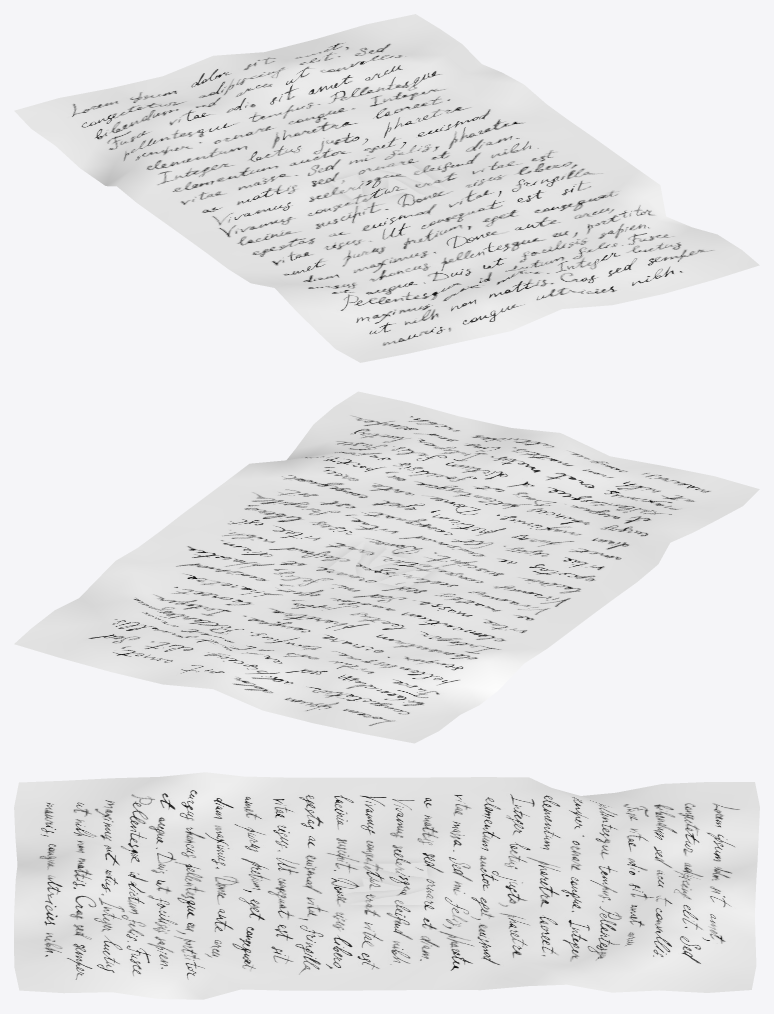
Rendered from PAPER.fbx.
The picture shows the model from 3 angles, top to bottom: view 1: azimuth 30°, elevation 25°; view 2: azimuth 150°, elevation 25°; view 3: azimuth 270°, elevation 25°; orthographic projection. The views are drawn at different scales.
Visible parts, largest first — view 1: Plane; view 2: Plane; view 3: Plane.
Boxes of the visible parts, <box> form: Plane: <box>14,14,759,362</box>; Plane: <box>14,391,759,743</box>; Plane: <box>14,772,759,999</box>.
Size of the model in its own units: 43.58 by 2.44 by 64.32.
